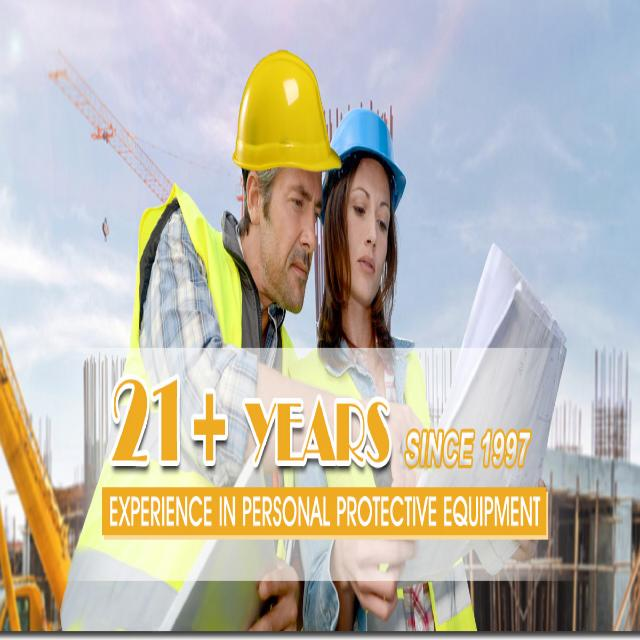Reflective-Jacket: (69, 203, 304, 638)
Safety-Helmet: (231, 43, 341, 183), (331, 100, 408, 208)
